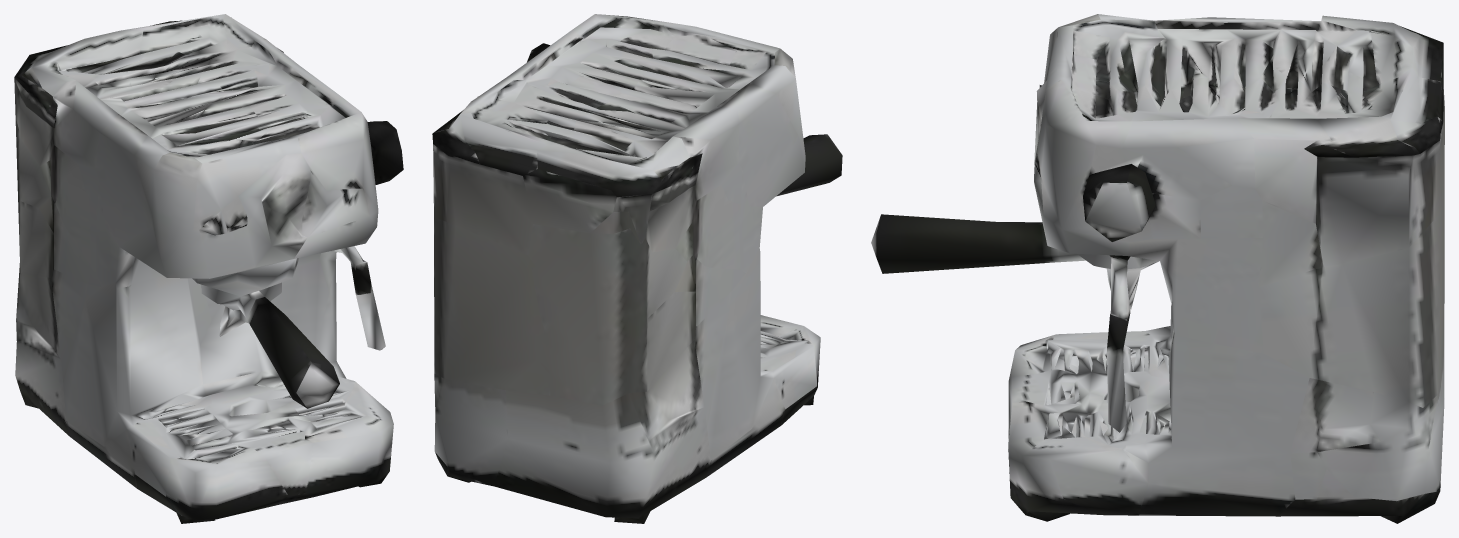
Rendered from espresso.lod2.glb.
3 views of the same model, side by side, from view 1: azimuth 30°, elevation 25°; view 2: azimuth 150°, elevation 25°; view 3: azimuth 270°, elevation 25° (orthographic). The views are drawn at different scales.
Parts seen in each view (by area): view 1: tripo_node_740993a9-1ad1-4f02-b3bd-55c05508e4a9; view 2: tripo_node_740993a9-1ad1-4f02-b3bd-55c05508e4a9; view 3: tripo_node_740993a9-1ad1-4f02-b3bd-55c05508e4a9.
Boxes of the visible parts, x1,y1,x2,y2 form: tripo_node_740993a9-1ad1-4f02-b3bd-55c05508e4a9: [14, 14, 403, 523]; tripo_node_740993a9-1ad1-4f02-b3bd-55c05508e4a9: [432, 14, 842, 523]; tripo_node_740993a9-1ad1-4f02-b3bd-55c05508e4a9: [871, 14, 1444, 523].
Bounding box in the file's own units: 0.2471 × 0.3296 × 0.4296.
1 material, 1 textured.
